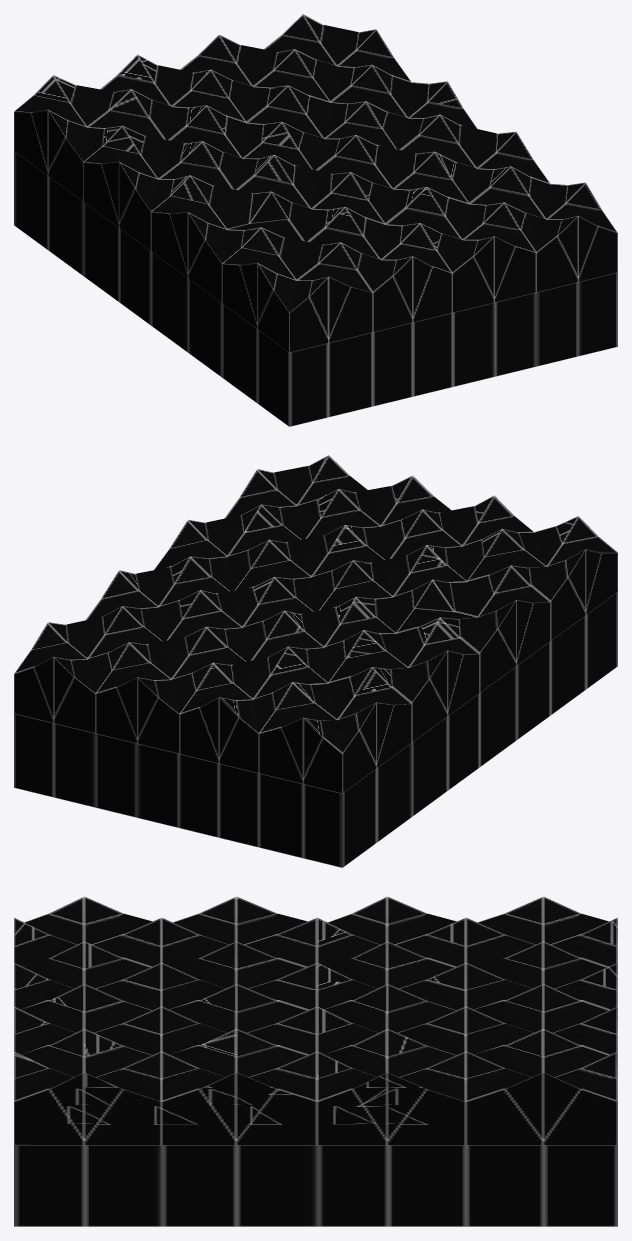
Rendered from Sponge.fbx.
The picture shows the model from 3 angles, top to bottom: view 1: azimuth 30°, elevation 25°; view 2: azimuth 150°, elevation 25°; view 3: azimuth 270°, elevation 25°; orthographic projection. The views are drawn at different scales.
Parts seen in each view (by area): view 1: pCube10; view 2: pCube10; view 3: pCube10.
Part boxes in pixels (box(x1,y1,x2,y2)): pCube10: box(14, 14, 617, 426); pCube10: box(14, 455, 617, 867); pCube10: box(14, 896, 617, 1226).
Bounding box in the file's own units: 14.59 × 5.97 × 21.2.
